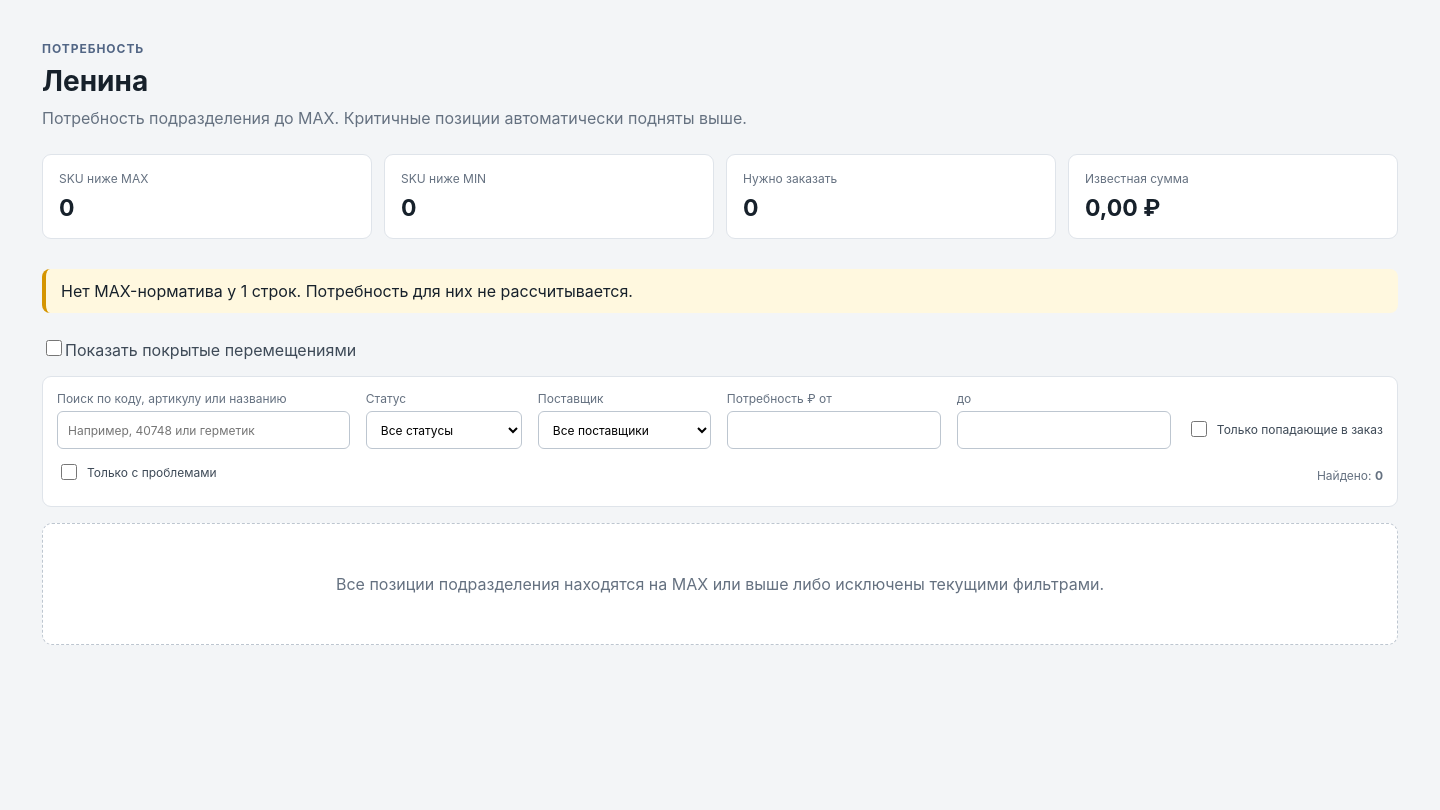
it: DemandPage › shows NO_NORM rows for a branch only when that status is selected
Expected: the text "Товар без MAX" is not shown
Select "Нет норматива" in the dropdown labelled "Статус" at (444, 430), box [366,411,522,449]
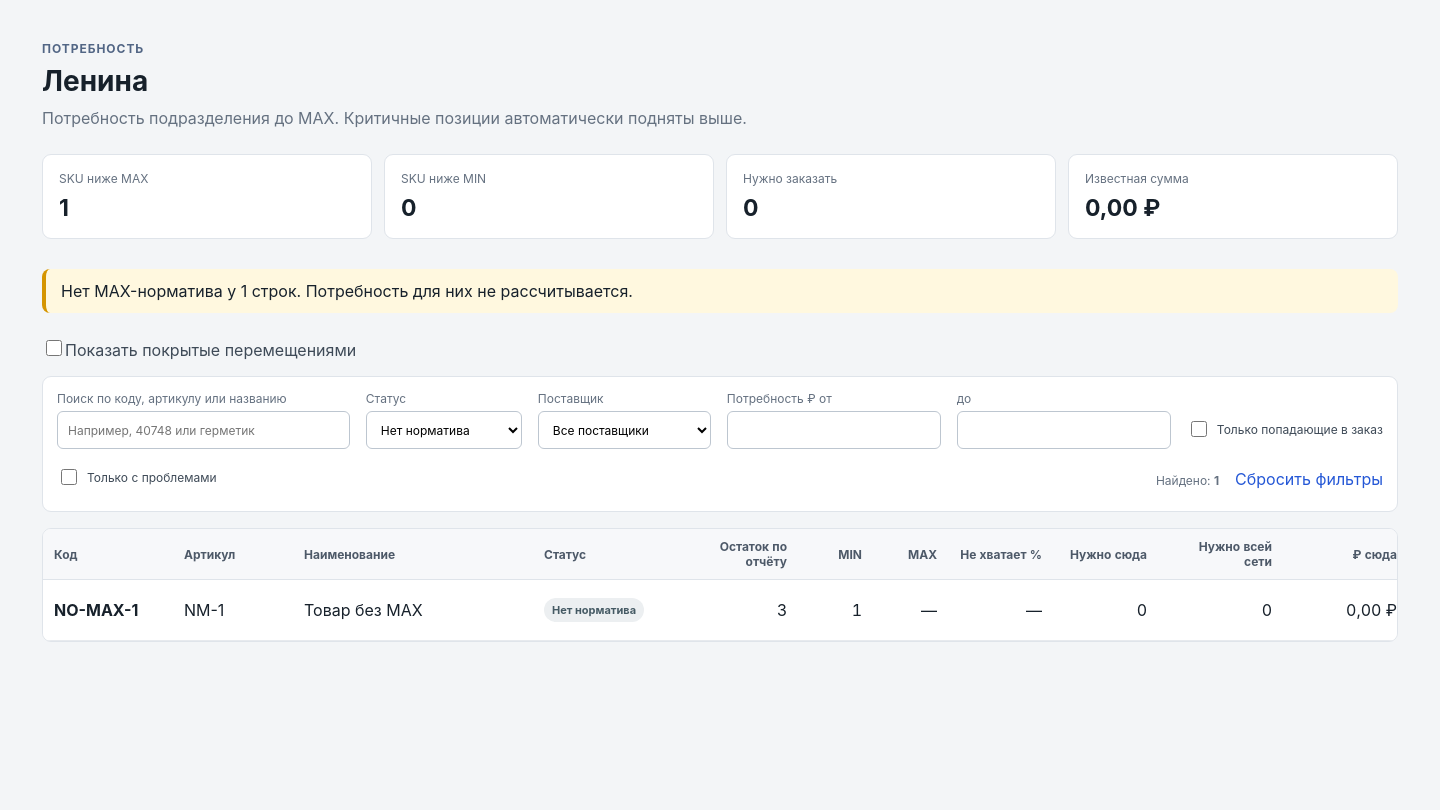
Result: the text "Товар без MAX" is shown at [304,600,423,620]
